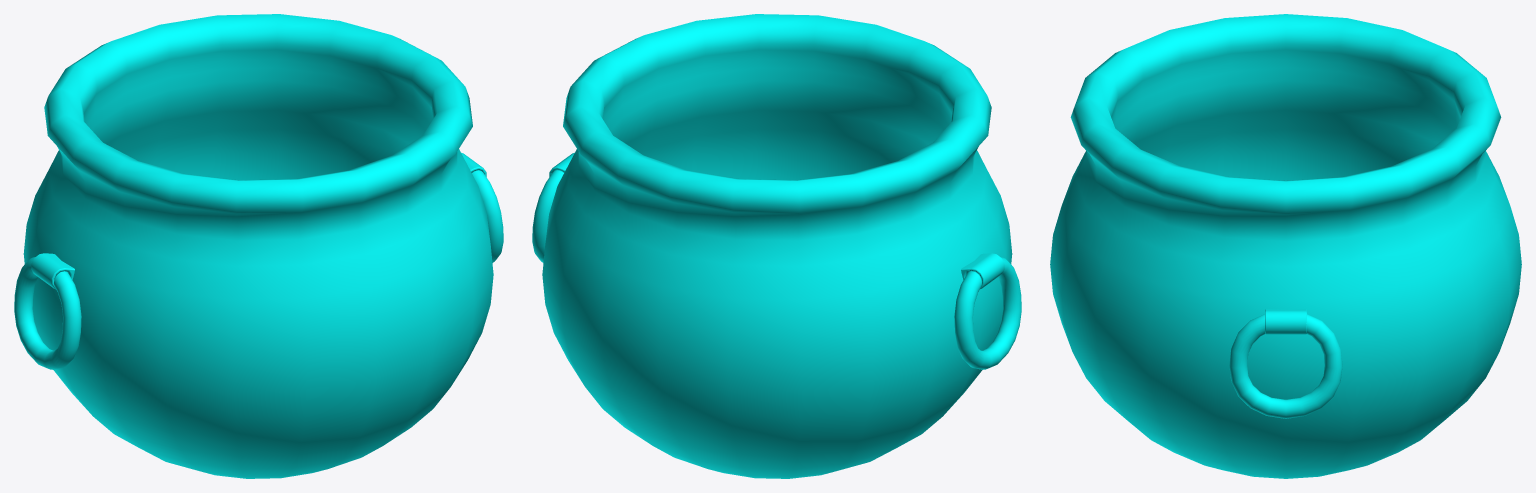
File: Cauldron.fbx
The picture shows the model from 3 angles, left to right: view 1: azimuth 30°, elevation 25°; view 2: azimuth 150°, elevation 25°; view 3: azimuth 270°, elevation 25°; orthographic projection.
Parts seen in each view (by area): view 1: pTorus3; view 2: pTorus3; view 3: pTorus3.
Boxes of the visible parts, x1=… form: pTorus3: x1=14, y1=14, x2=503, y2=478; pTorus3: x1=532, y1=14, x2=1021, y2=478; pTorus3: x1=1050, y1=14, x2=1521, y2=478.
Bounding box in the file's own units: 21.86 × 16.71 × 20.03.
